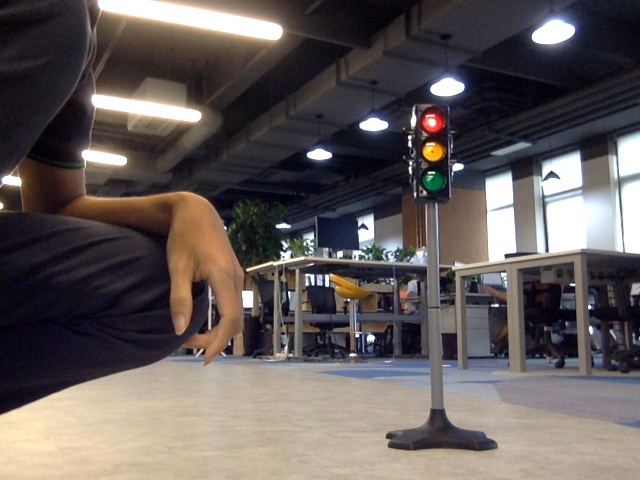red: (416, 109, 446, 196)
